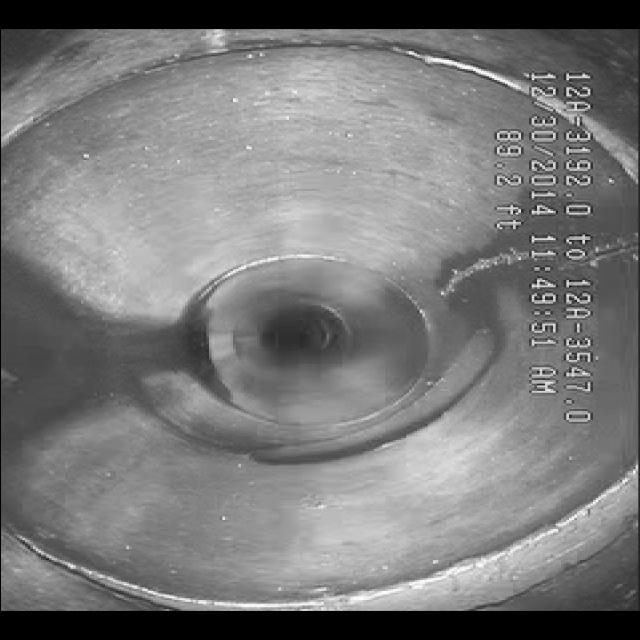Crack: (427, 236, 527, 334)
